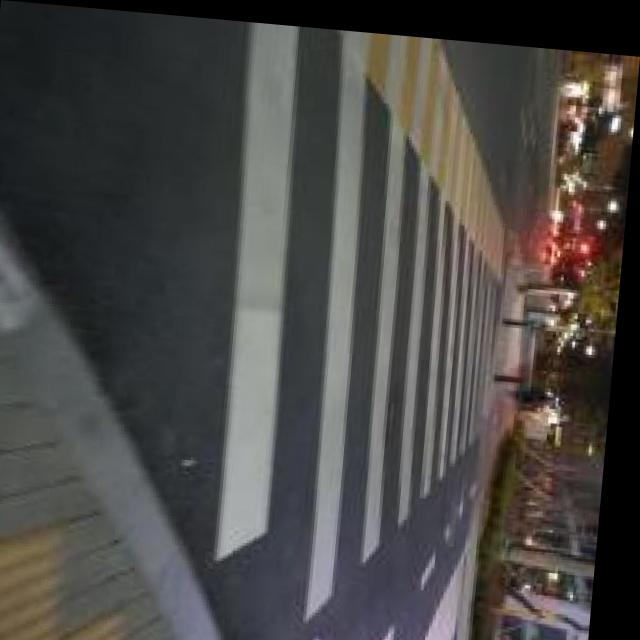zebra: (194, 125, 527, 618)
